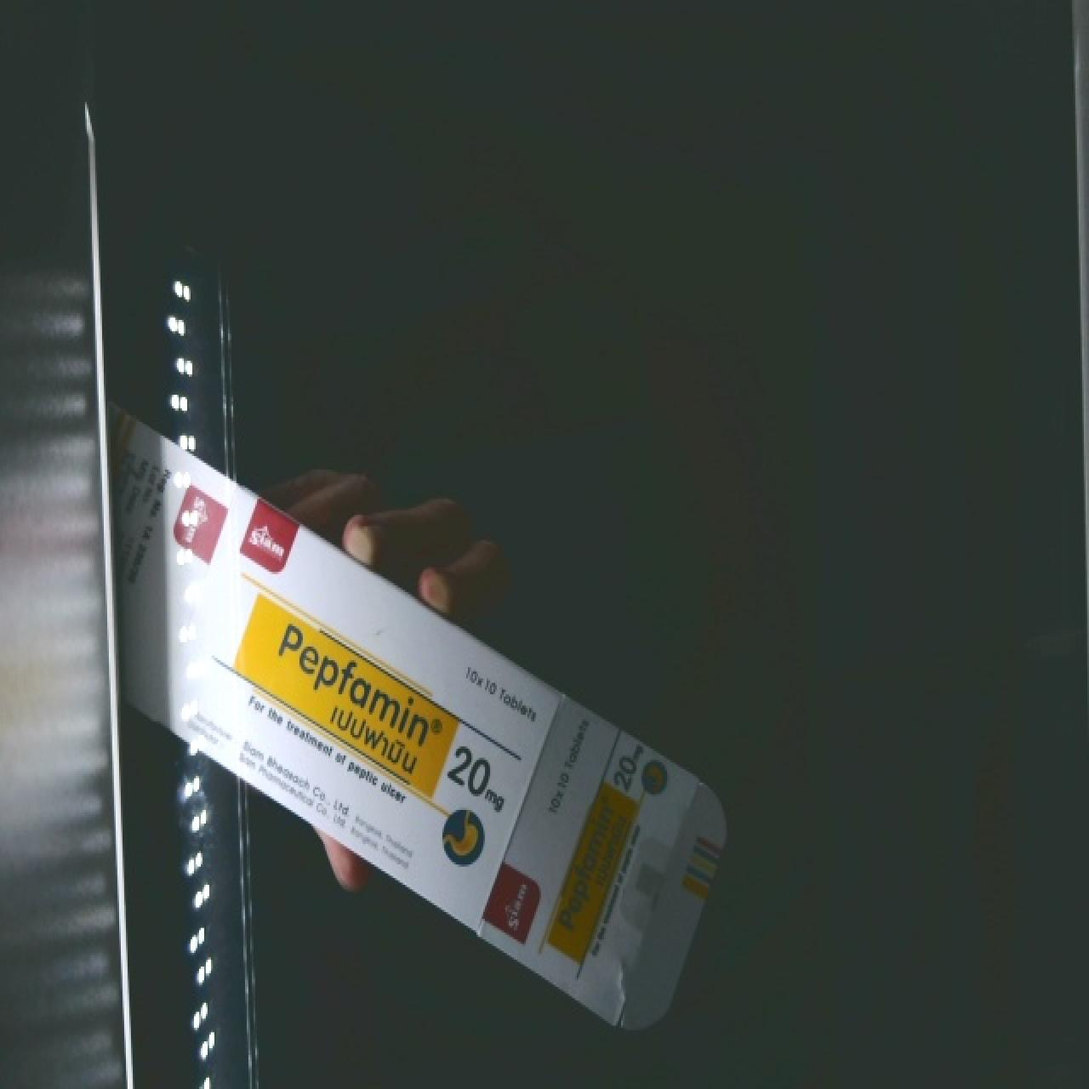medicine_label_obb: (217, 593, 481, 804)
